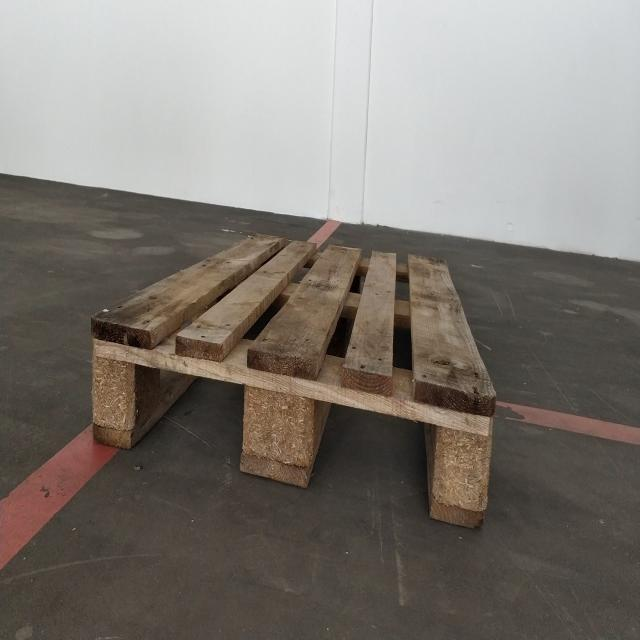block: (238, 346, 317, 491), (428, 381, 496, 533), (88, 314, 138, 454)
front: (89, 312, 492, 533)
